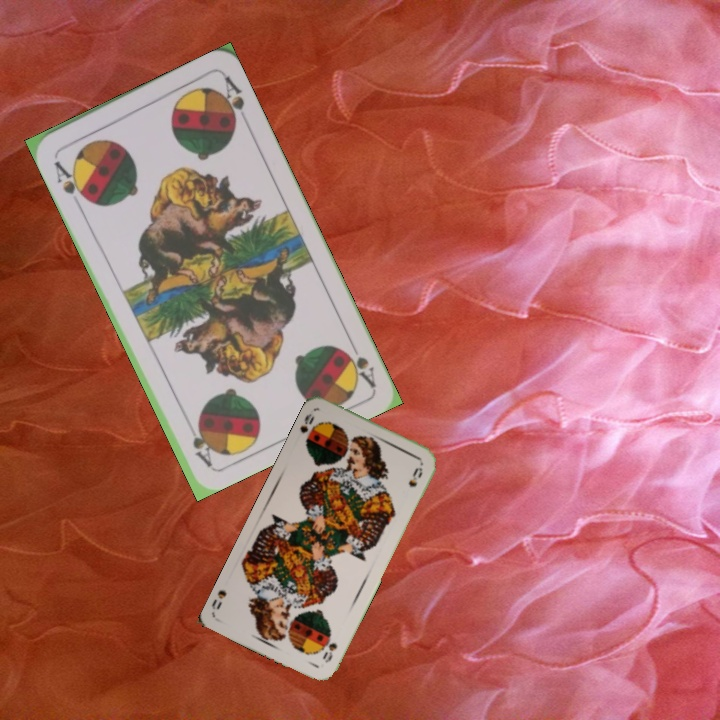SA: (339, 334, 378, 389), (49, 156, 90, 204)
SO: (318, 634, 340, 665), (296, 409, 317, 436)
